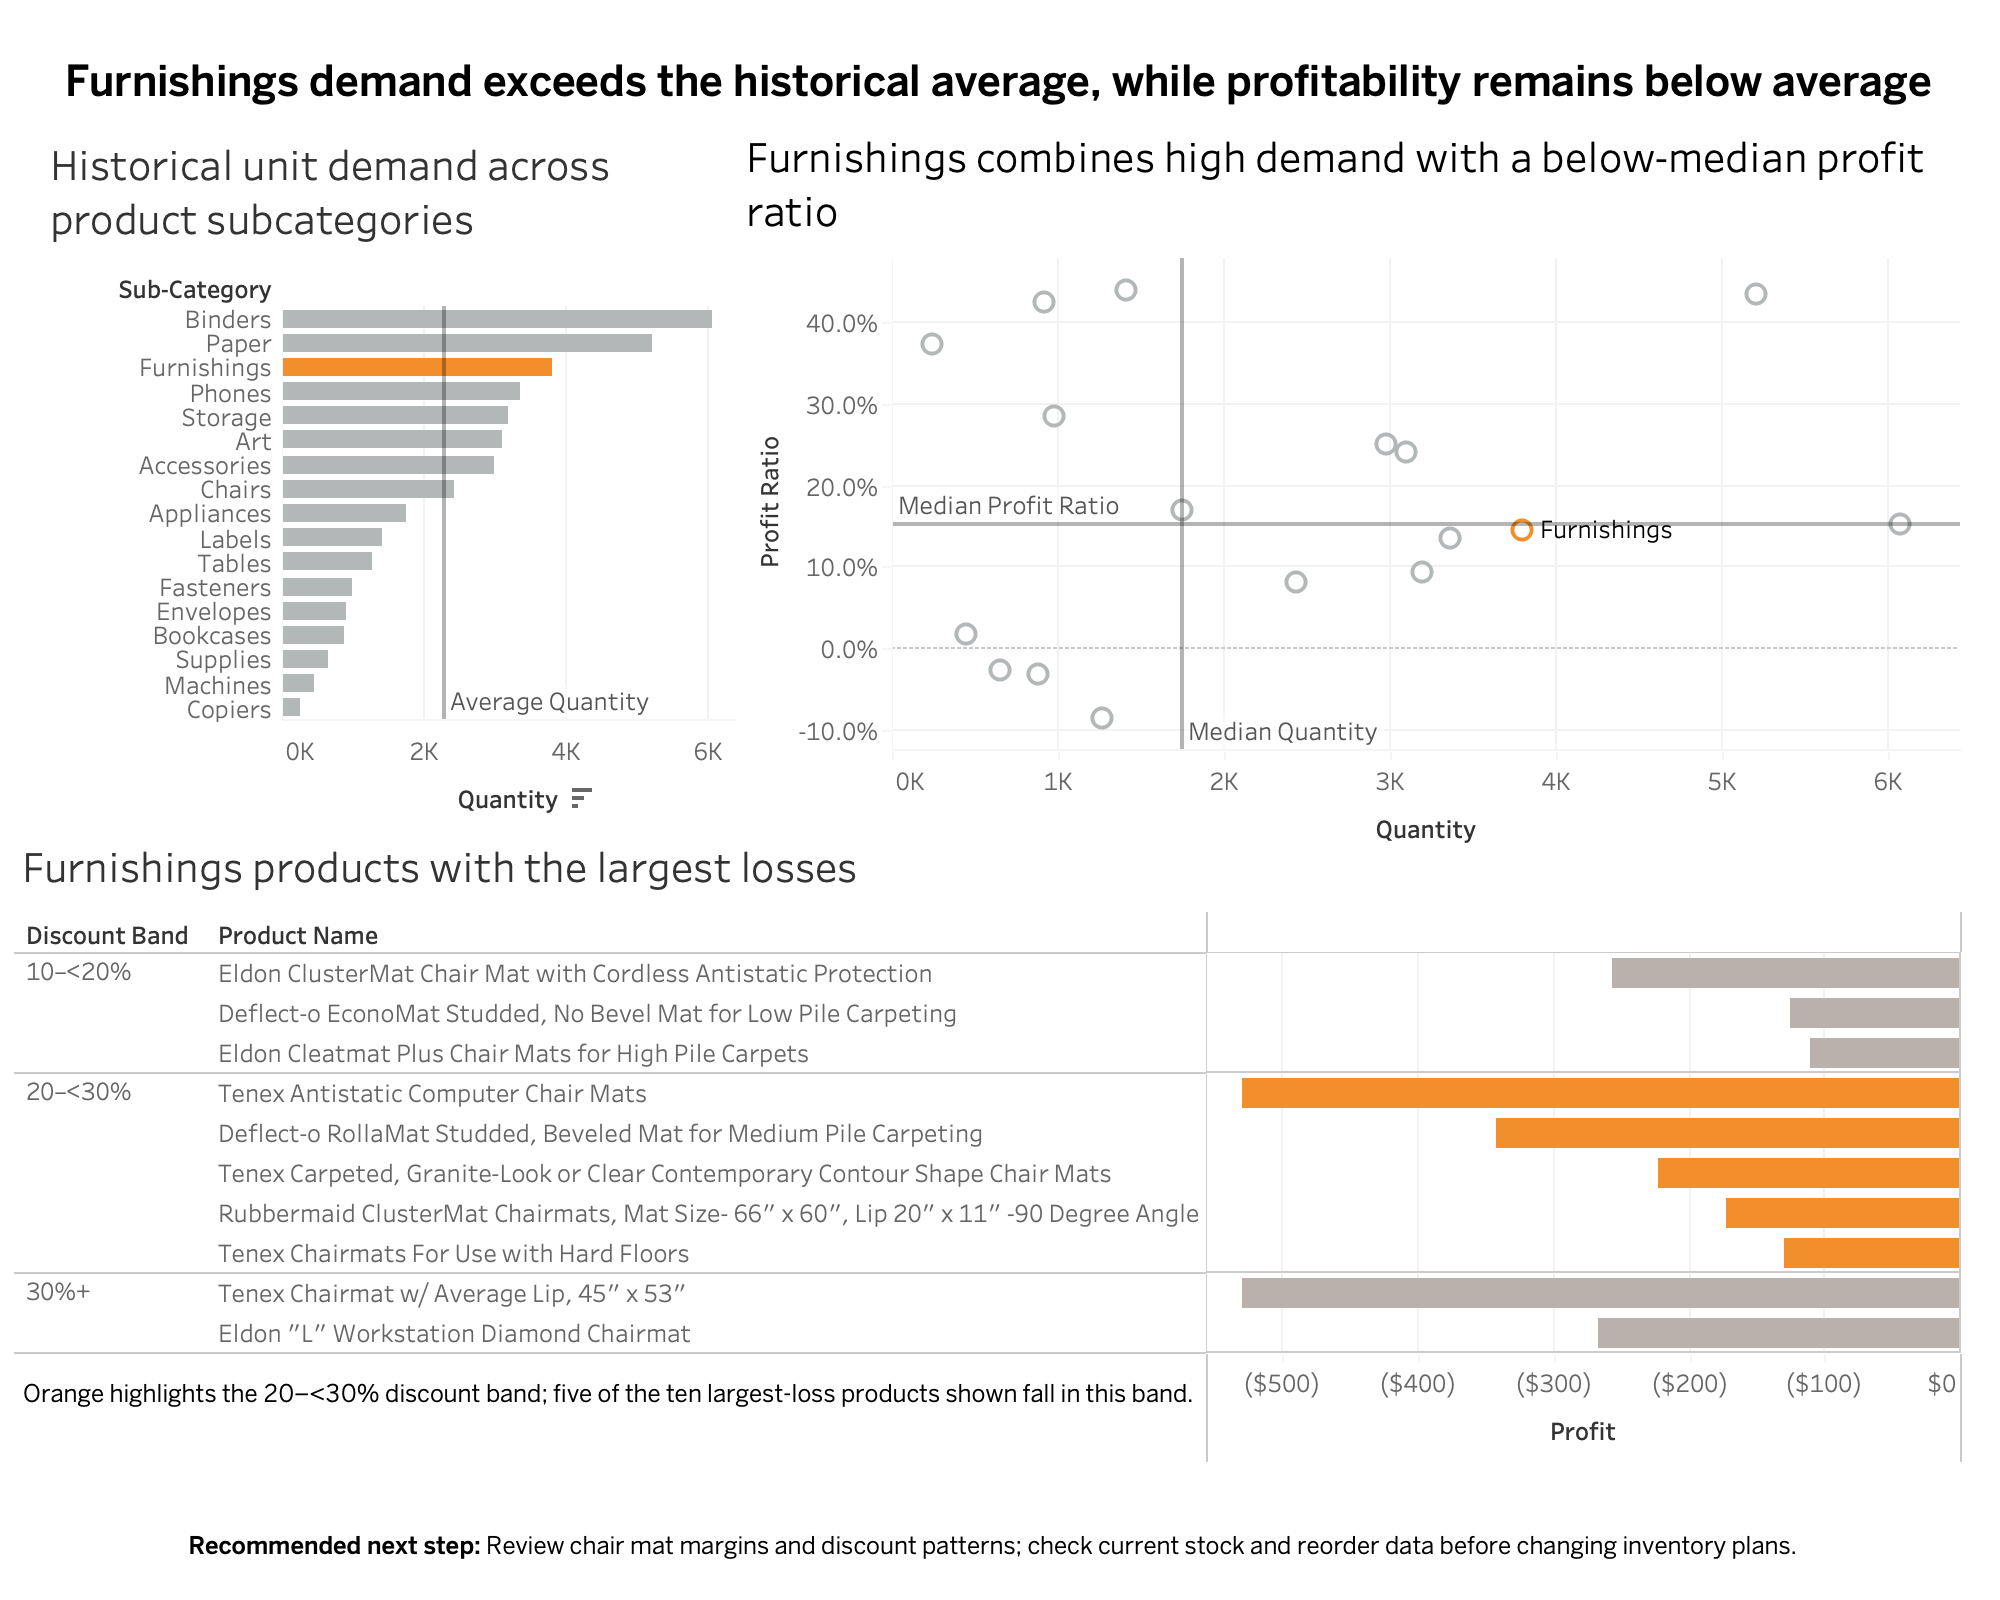

Layout of this report page (visuals, bound fields, positions):
{"tool":"tableau","page":{"name":"Dashboard 7","canvas":[1000,800],"ordinal":0},"visuals":[{"type":"text","box":[92,6,820,70]},{"type":"worksheet","title":"View2","mark":"Automatic","rows":["Calculation_9921103144103743"],"cols":["Quantity"],"box":[365,54,619,380]},{"type":"worksheet","title":"View1","mark":"Bar","rows":["Sub-Category"],"cols":["Quantity"],"box":[17,58,354,361]},{"type":"worksheet","title":"View3","mark":"Bar","rows":["Calculation_1789936401166345","Product Name"],"cols":["Profit"],"box":[7,413,974,320]},{"type":"text","box":[9,685,588,24]},{"type":"text","box":[7,754,979,38]}]}

Visuals, with their boxes in screenshot pixels (x1, y1, x2, y2), scaled from the page's 1000x800 canvas onto the 2000x1600 screenshot:
text: [184,12,1824,152]
"View2" worksheet: [730,108,1968,868]
"View1" worksheet (Bar marks): [34,116,742,838]
"View3" worksheet (Bar marks): [14,826,1962,1466]
text: [18,1370,1194,1418]
text: [14,1508,1972,1584]
